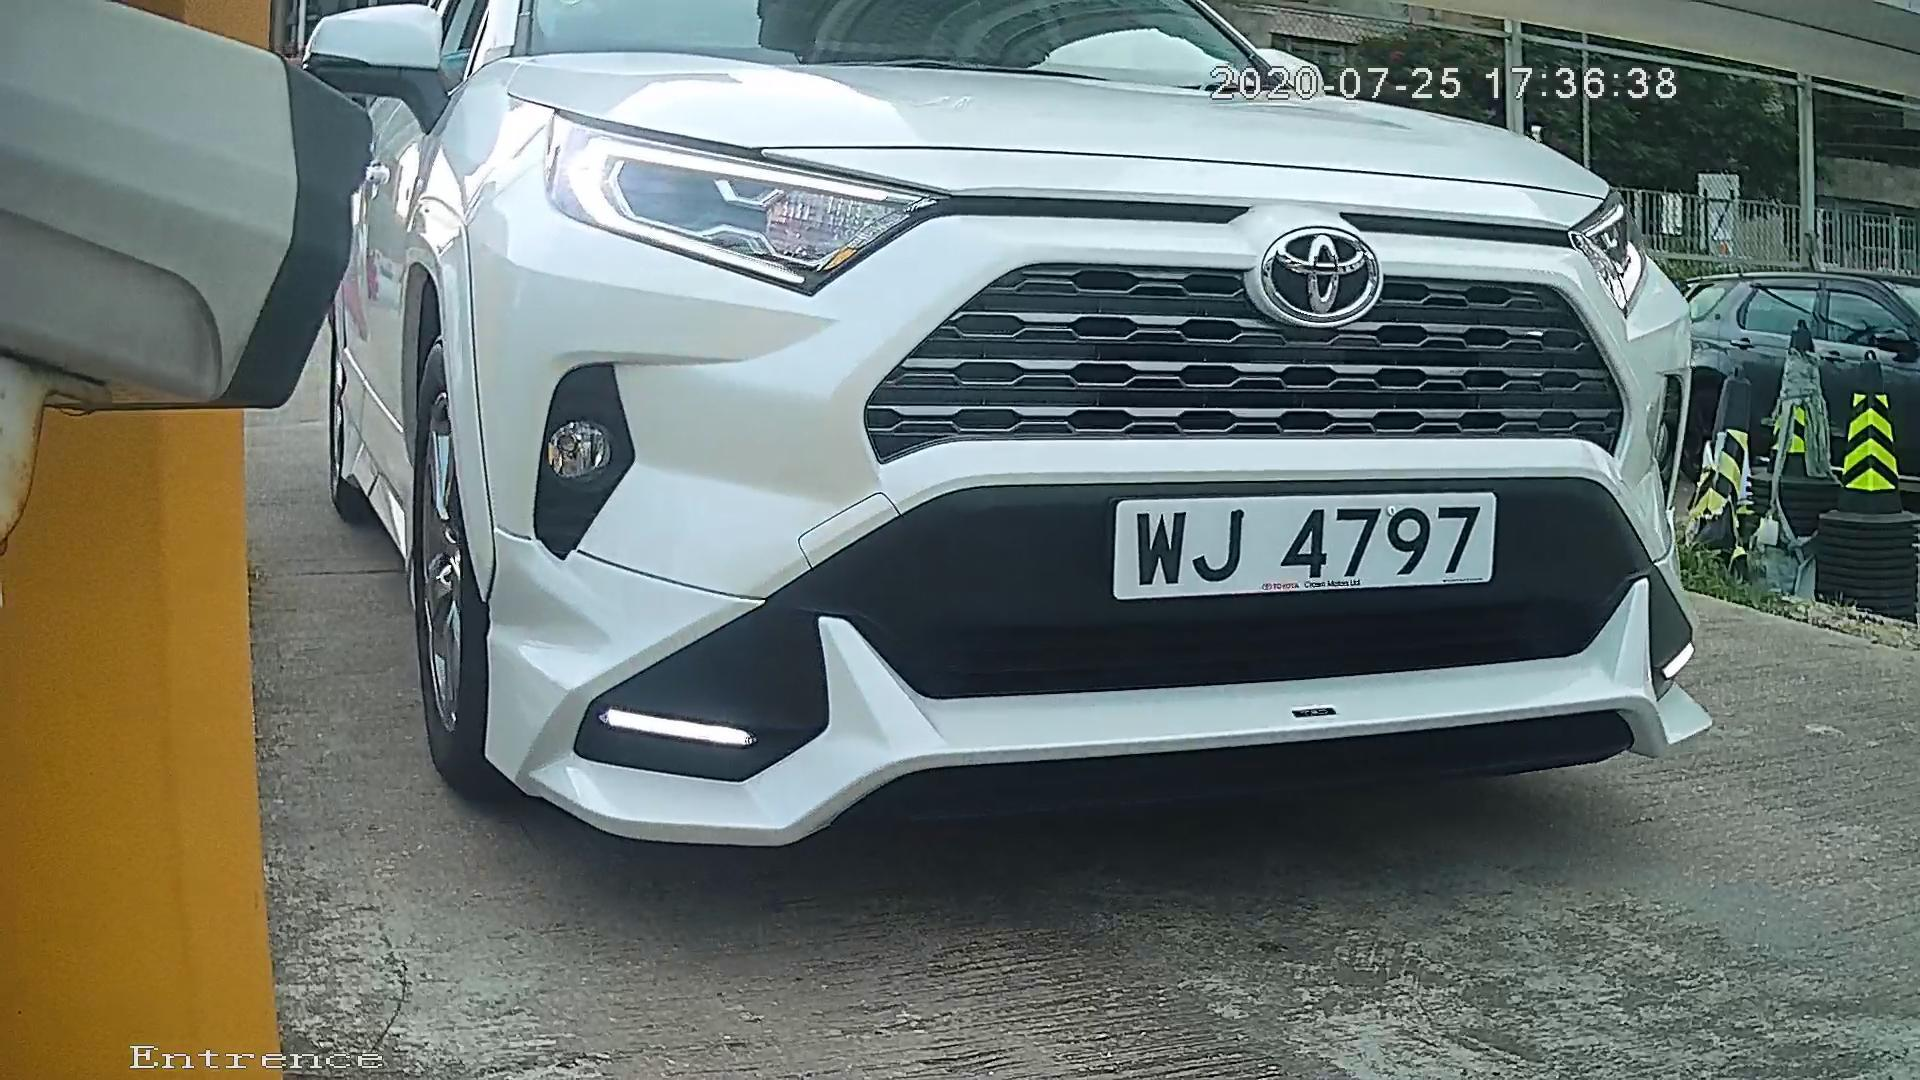privatecar: (249, 11, 1844, 887)
